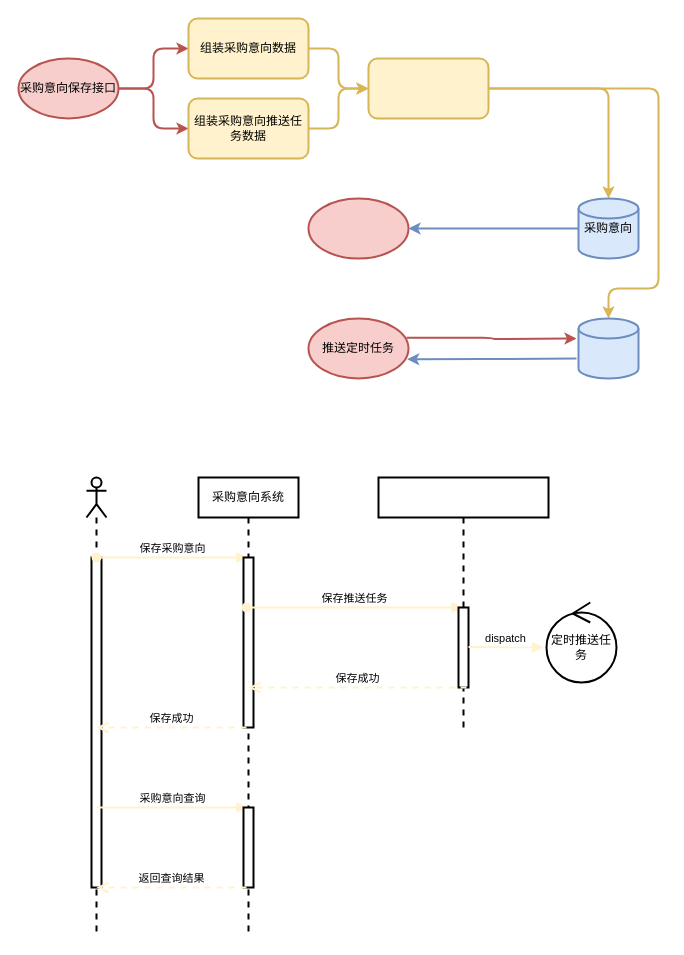
Image size: 684x955. Some labels were removed from this diagram. The centre of each missing label's shape, as x and y in pixels:
保存数据到数据库: the point at 428,88
推送任务: the point at 608,348
推送系统: the point at 463,602
采购意向查询接口: the point at 358,228
